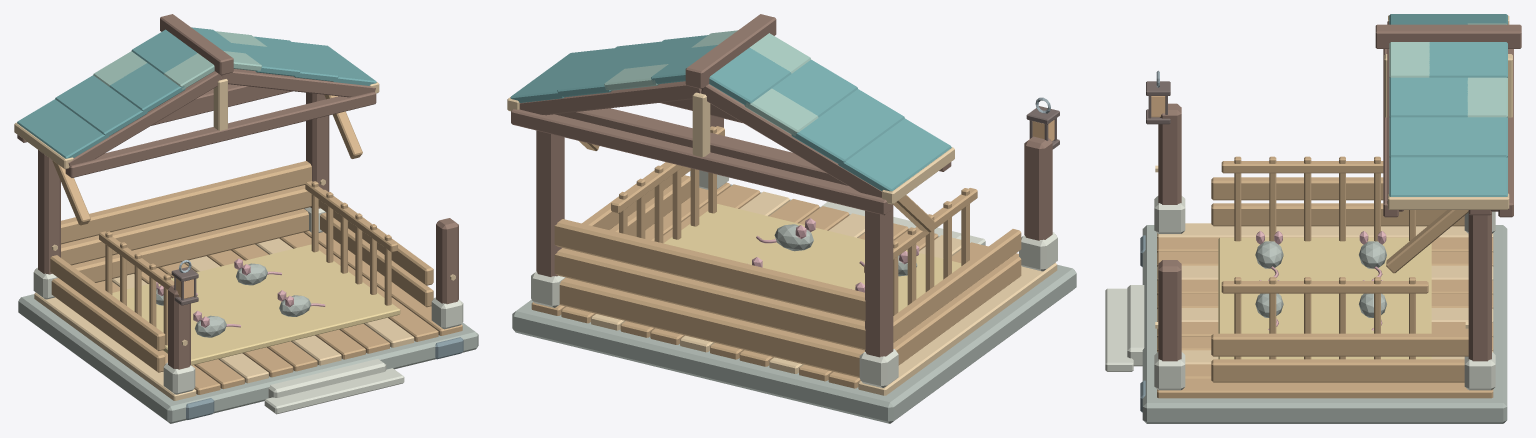
The model's file is mouse_farm.fbx.
3 views of the same model, side by side, from view 1: azimuth 30°, elevation 25°; view 2: azimuth 150°, elevation 25°; view 3: azimuth 270°, elevation 25° (orthographic). The views are drawn at different scales.
Visible parts, largest first — view 1: mouse_farm_mesh; view 2: mouse_farm_mesh; view 3: mouse_farm_mesh.
Part boxes in pixels (<box>): mouse_farm_mesh: <box>14,14,478,423</box>; mouse_farm_mesh: <box>507,14,1076,423</box>; mouse_farm_mesh: <box>1105,14,1521,423</box>.
Bounding box in the file's own units: 3.37 × 2.62 × 3.22.
